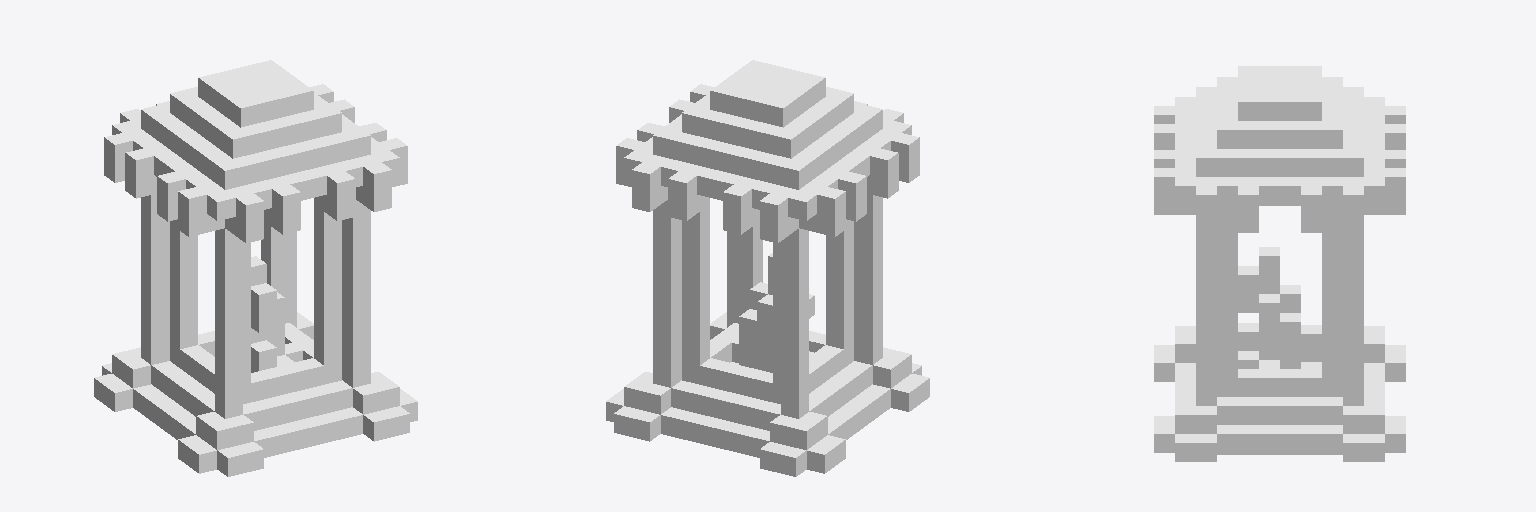
The model's file is mon-8-lamp.obj.
The picture shows the model from 3 angles: view 1: azimuth 30°, elevation 25°; view 2: azimuth 150°, elevation 25°; view 3: azimuth 270°, elevation 25°; orthographic projection.
Visible parts, largest first — view 1: lamp; view 2: lamp; view 3: lamp.
Boxes of the visible parts, <box> form: lamp: <box>94,60,417,476</box>; lamp: <box>606,60,929,476</box>; lamp: <box>1154,66,1405,461</box>.
Bounding box in the file's own units: 1.2 × 1.8 × 1.2.